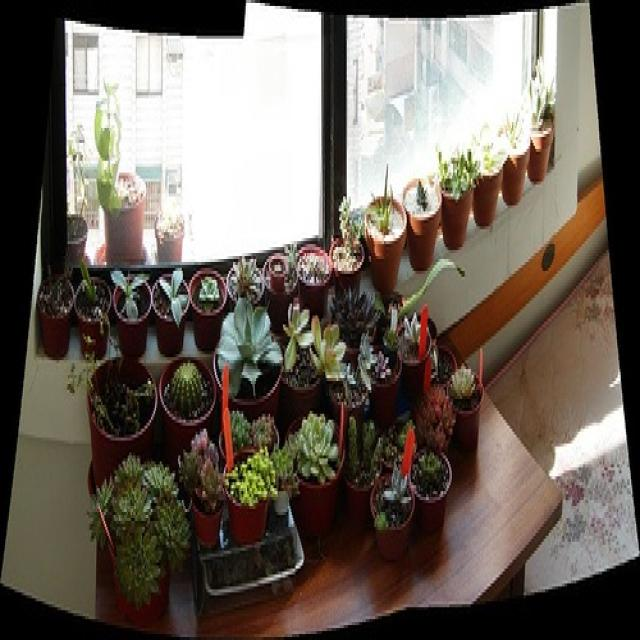pottedplant: (89, 453, 190, 631), (95, 80, 146, 274), (215, 288, 283, 416), (88, 352, 159, 474), (289, 411, 339, 545), (368, 170, 408, 306), (224, 449, 273, 556), (184, 434, 224, 556), (436, 146, 480, 256), (285, 304, 329, 414), (161, 354, 218, 438), (402, 172, 443, 280), (412, 444, 452, 550), (112, 271, 154, 363), (526, 54, 554, 190), (373, 467, 412, 563), (470, 125, 503, 238), (343, 414, 376, 527), (330, 202, 366, 304), (152, 268, 191, 360), (38, 268, 76, 360), (190, 268, 227, 360), (499, 108, 530, 212), (395, 318, 434, 399), (77, 271, 110, 363), (366, 342, 403, 423), (336, 286, 380, 354), (417, 381, 453, 461), (448, 372, 480, 459), (296, 244, 332, 319), (262, 250, 297, 322), (227, 256, 265, 316), (269, 446, 292, 521), (155, 214, 185, 268), (220, 408, 248, 458), (427, 339, 457, 381), (250, 414, 278, 452)
